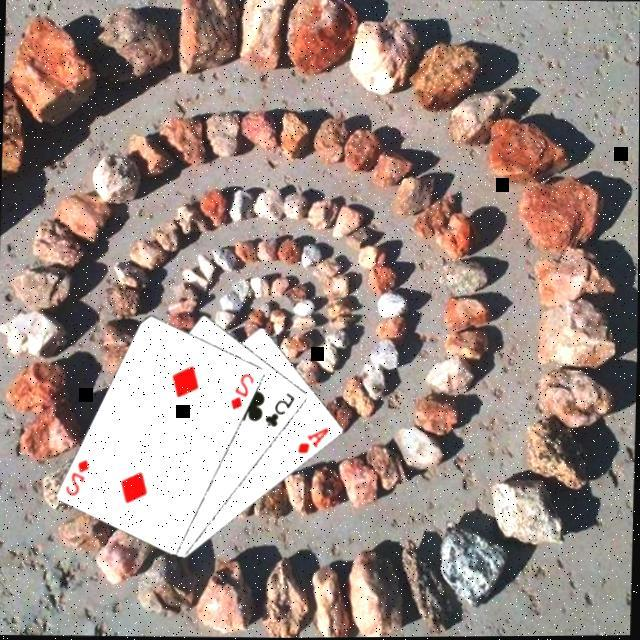2D: (229, 369, 259, 411), (65, 455, 95, 497)
5C: (263, 388, 300, 429)
AD: (296, 423, 335, 456)
